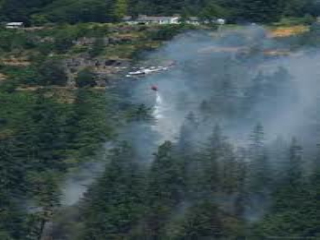smoke: (146, 91, 175, 125)
